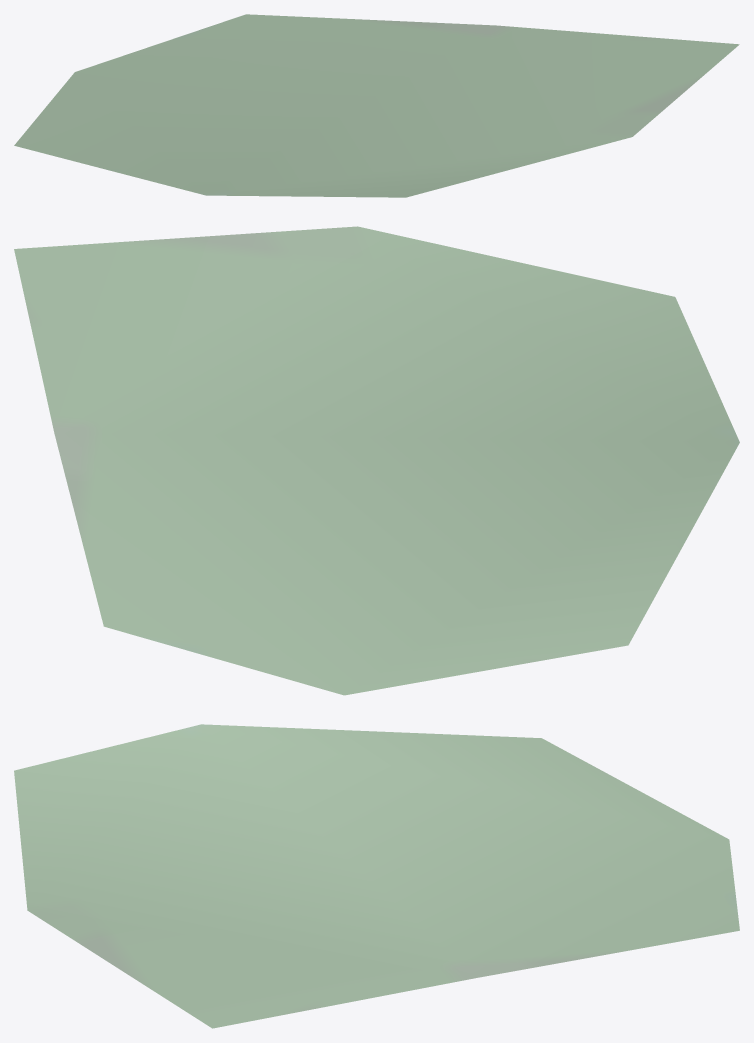
File: TROLLHOLE02_HOLECAP78.fbx
The picture shows the model from 3 angles, top to bottom: view 1: azimuth 30°, elevation 25°; view 2: azimuth 150°, elevation 25°; view 3: azimuth 270°, elevation 25°; orthographic projection. The views are drawn at different scales.
Visible parts, largest first — view 1: TROLLHOLE02_HOLECAP78; view 2: TROLLHOLE02_HOLECAP78; view 3: TROLLHOLE02_HOLECAP78.
Boxes of the visible parts, x1,y1,x2,y2 form: TROLLHOLE02_HOLECAP78: [14, 14, 739, 197]; TROLLHOLE02_HOLECAP78: [14, 226, 739, 695]; TROLLHOLE02_HOLECAP78: [14, 724, 739, 1028].
Bounding box in the file's own units: 20891 × 2564 × 17926.
1 material, 1 textured.
